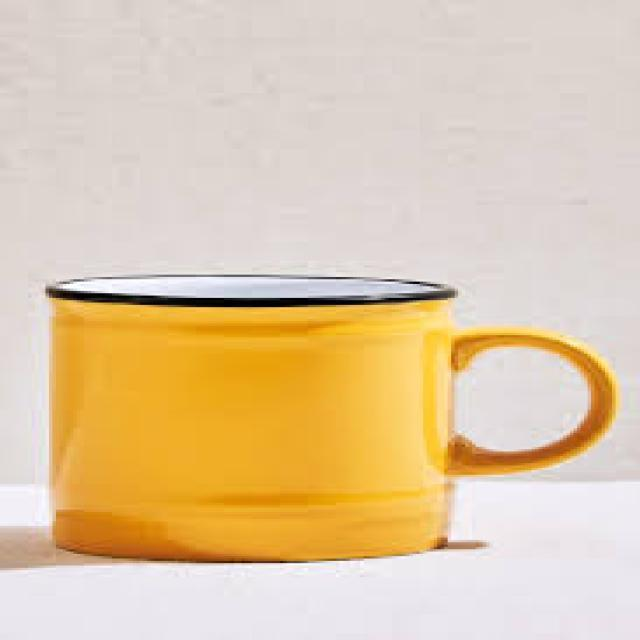taza: (43, 273, 623, 565)
